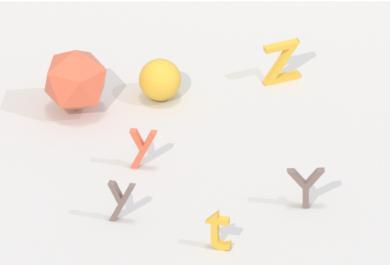0-Tron: (135, 55, 185, 106)
0-TronCanh: (41, 48, 109, 115)
Y: (284, 163, 329, 212)
Z: (257, 35, 304, 90)
t: (202, 206, 236, 257)
y: (103, 176, 138, 225), (126, 124, 159, 174)
